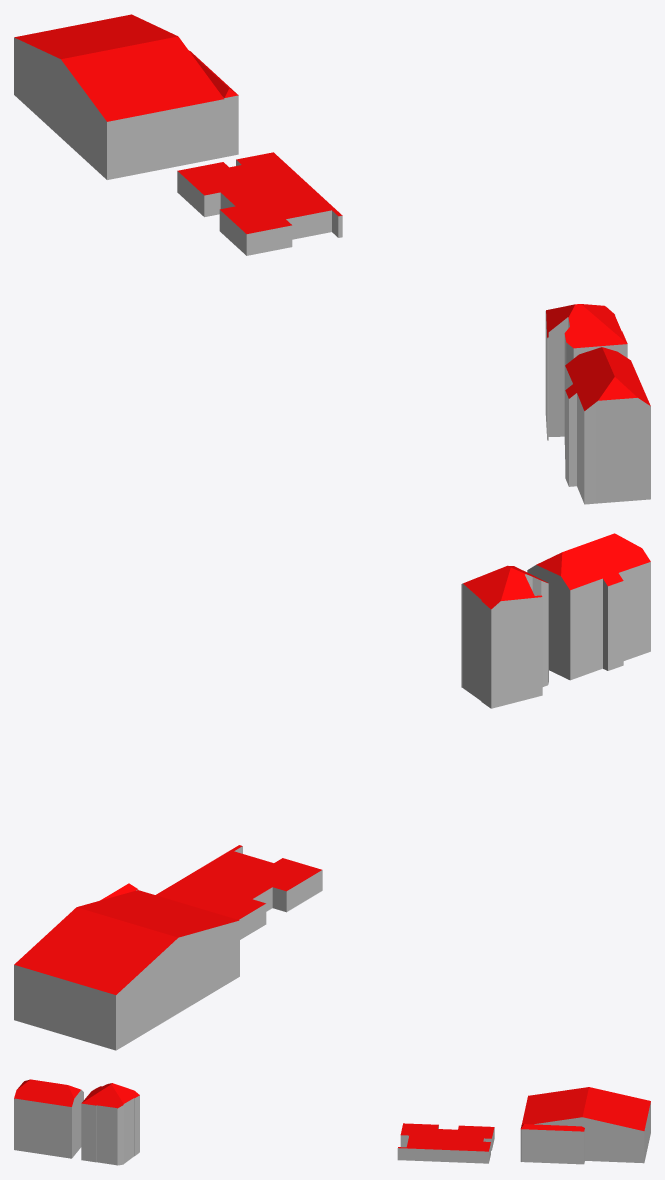
3 views of the same model, one above another, from view 1: azimuth 30°, elevation 25°; view 2: azimuth 150°, elevation 25°; view 3: azimuth 270°, elevation 25° (orthographic). The views are drawn at different scales.
Size of the model in its own units: 25.97 by 22.83 by 187.
